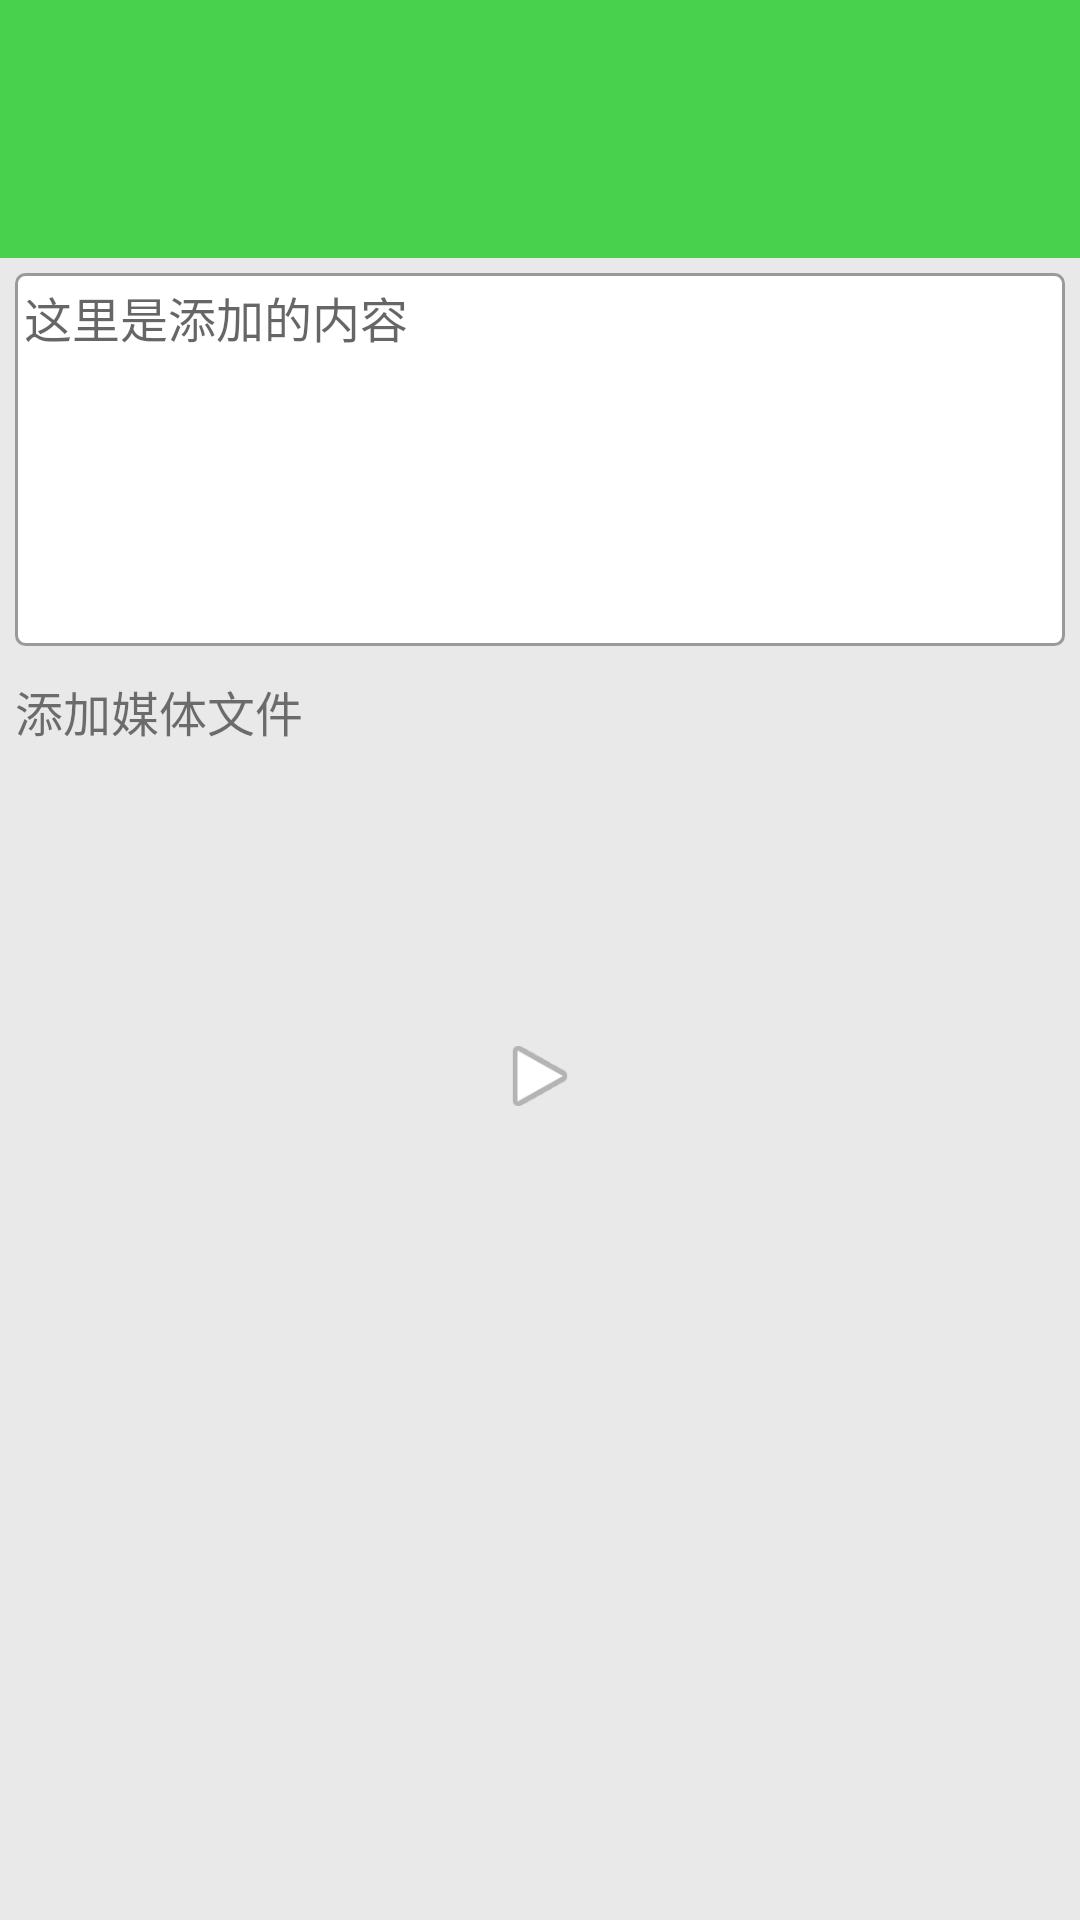

Icons on this 1080 × 1920 Android screen, each with the point to tap as point (x, y):
play: point (540, 1076)
